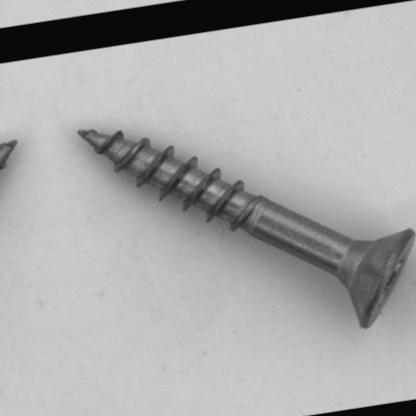metal: (75, 127, 415, 329)
